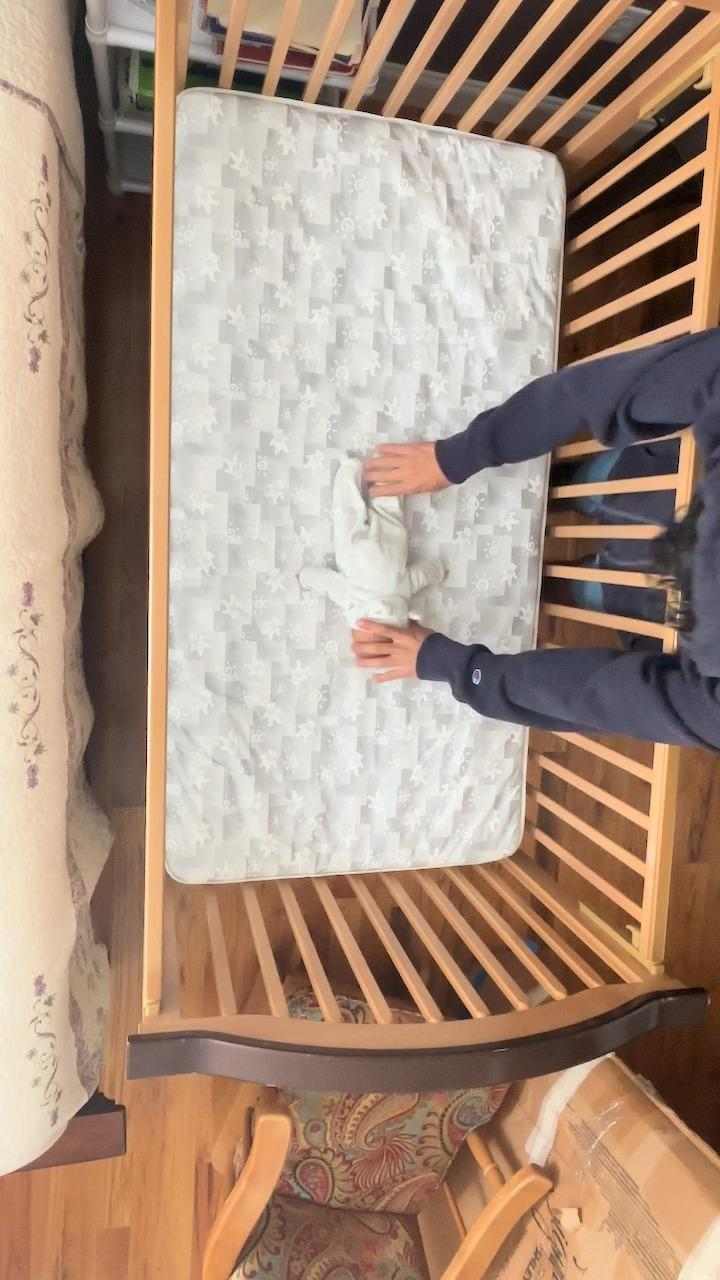baby: (297, 456, 451, 659)
